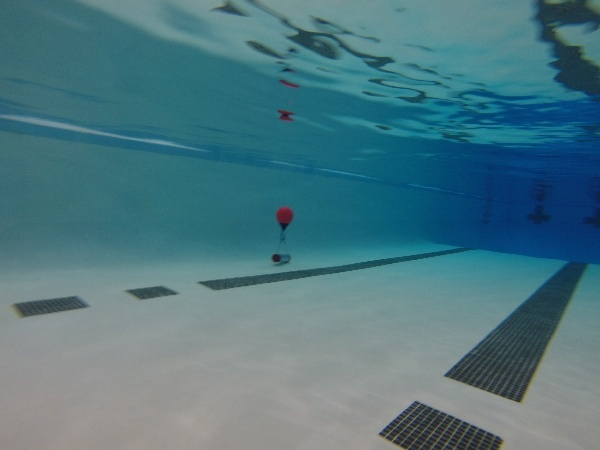buoy_red: (275, 203, 294, 232)
